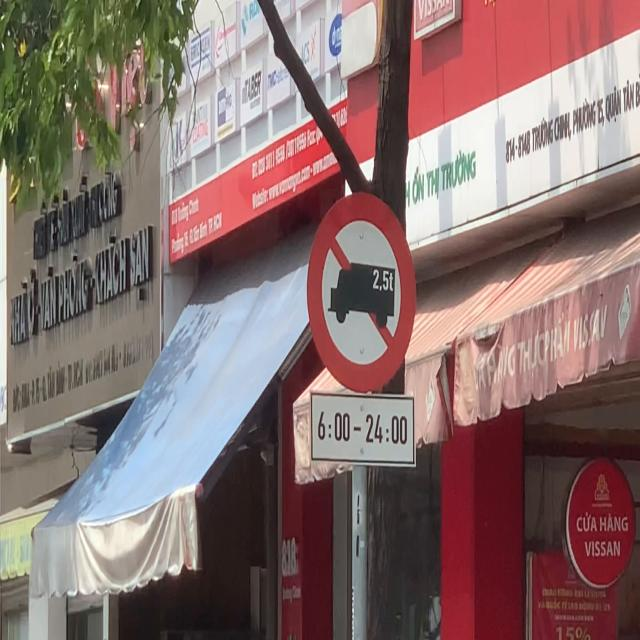Cam con lai: (306, 191, 418, 393)
